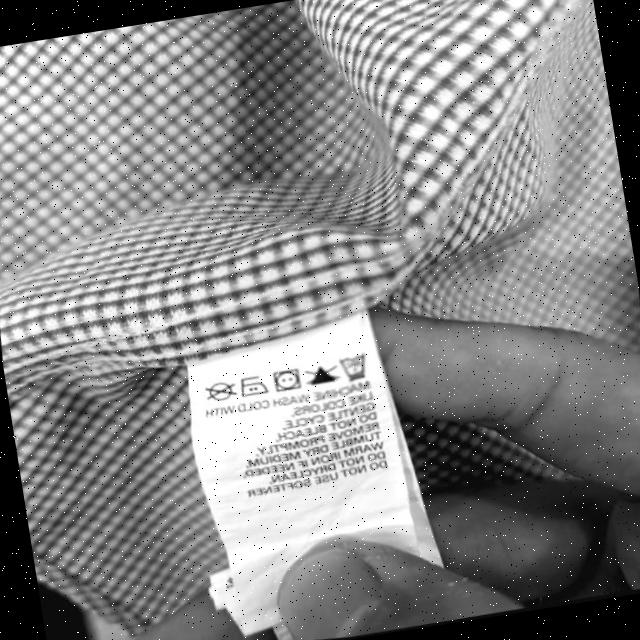ER_iron_medium_temp: (239, 372, 269, 398)
ER_no_bleach: (306, 363, 341, 388)
ER_no_dry_clean: (207, 380, 237, 404)
ER_tumble_dry_normal_heat: (272, 367, 303, 394)
